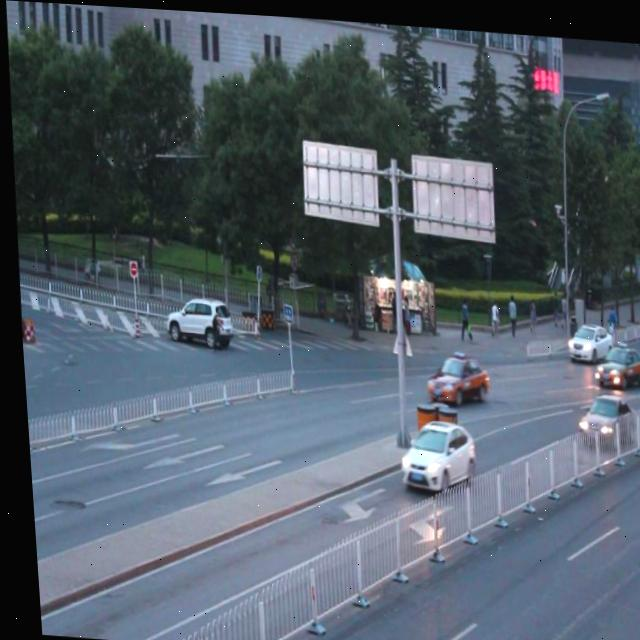car: (392, 414, 470, 488), (419, 340, 482, 404), (159, 289, 228, 343), (570, 383, 632, 440), (591, 335, 640, 383), (560, 316, 609, 356)
